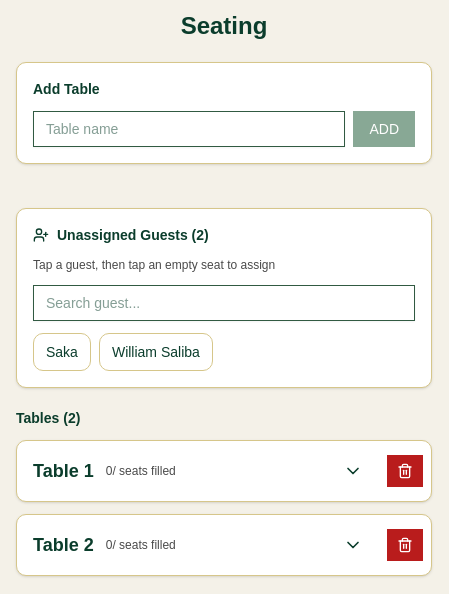
Test: The Add table button remains disabled until a name is entered in the form
Expected: the button "Add" is disabled, [353, 111, 415, 147]
Type "Test Table" into the field labelled "Table name" at (189,129), box [33, 111, 345, 147]
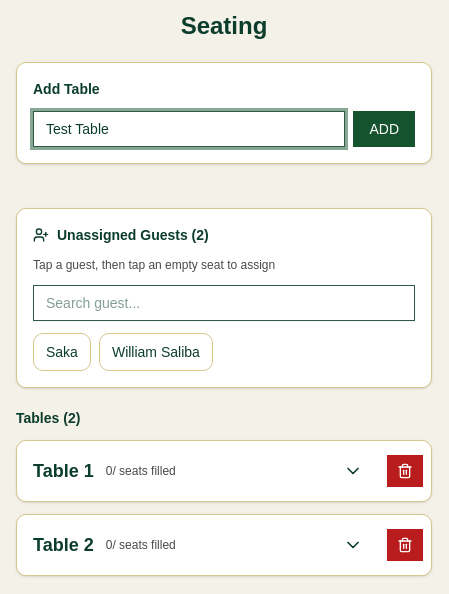
Now the button "Add" is enabled, box [353, 111, 415, 147]
